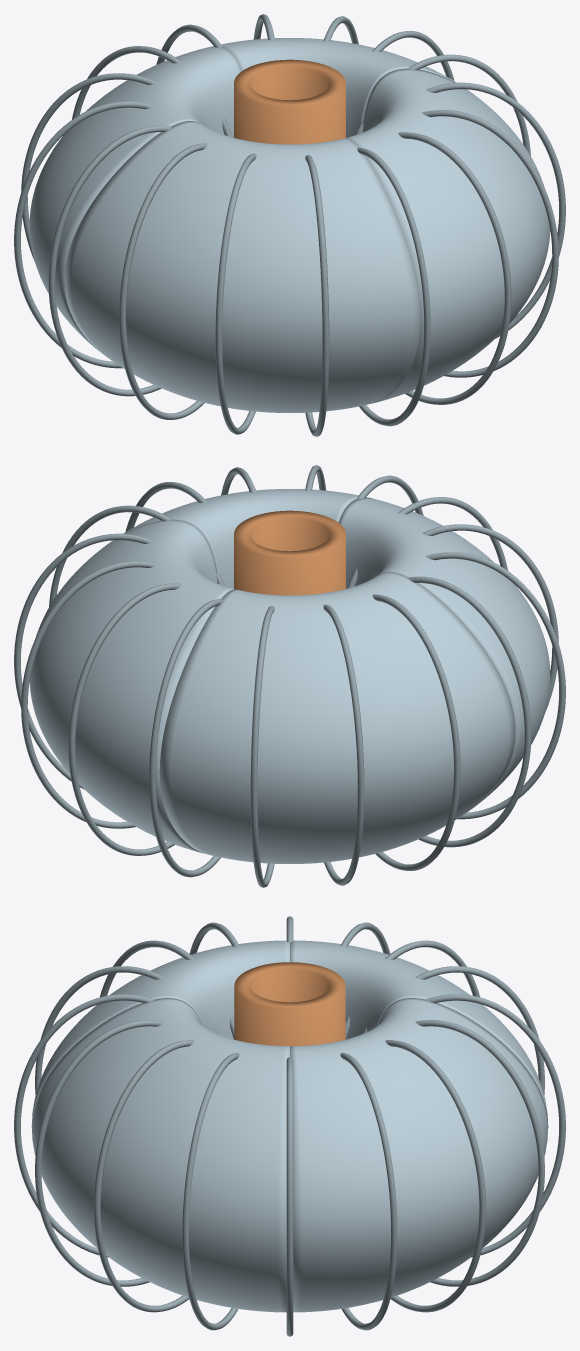
3 views of the same model, one above another, from view 1: azimuth 30°, elevation 25°; view 2: azimuth 150°, elevation 25°; view 3: azimuth 270°, elevation 25° (orthographic).
Visible parts, largest first — view 1: vessel_Q2, vessel_Q3, vessel_Q1, solenoid, vessel_Q0, coils_08, coils_14, coils_13, coils_07, coils_09, coils_12, coils_15 (+7 smaller); view 2: vessel_Q1, vessel_Q0, vessel_Q2, solenoid, vessel_Q3, coils_08, coils_02, coils_03, coils_09, coils_07, coils_04, coils_01 (+7 smaller); view 3: vessel_Q0, vessel_Q3, solenoid, vessel_Q1, vessel_Q2, coils_03, coils_13, coils_02, coils_14, coils_04, coils_12, coils_01 (+6 smaller).
Part boxes in pixels (left/top/right/bottom): vessel_Q2: left=64, top=121, right=420, bottom=412; vessel_Q3: left=345, top=68, right=550, bottom=402; vessel_Q1: left=29, top=46, right=241, bottom=353; solenoid: left=234, top=59, right=345, bottom=144; vessel_Q0: left=212, top=38, right=455, bottom=137; coils_08: left=48, top=125, right=171, bottom=396; coils_14: left=422, top=110, right=558, bottom=377; coils_13: left=398, top=132, right=511, bottom=404; coils_07: left=14, top=101, right=153, bottom=368; coils_09: left=119, top=143, right=207, bottom=419; coils_12: left=357, top=147, right=430, bottom=426; coils_15: left=426, top=82, right=565, bottom=338; vessel_Q1: left=159, top=572, right=515, bottom=863; vessel_Q0: left=29, top=519, right=234, bottom=853; vessel_Q2: left=338, top=497, right=550, bottom=804; solenoid: left=234, top=510, right=345, bottom=595; vessel_Q3: left=124, top=489, right=367, bottom=588; coils_08: left=408, top=576, right=531, bottom=847; coils_02: left=21, top=561, right=157, bottom=828; coils_03: left=68, top=583, right=181, bottom=855; coils_09: left=426, top=552, right=565, bottom=819; coils_07: left=372, top=594, right=460, bottom=870; coils_04: left=149, top=598, right=222, bottom=877; coils_01: left=14, top=533, right=153, bottom=789; vessel_Q0: left=290, top=998, right=548, bottom=1312; vessel_Q3: left=31, top=998, right=289, bottom=1312; solenoid: left=234, top=962, right=345, bottom=1046; vessel_Q1: left=290, top=940, right=547, bottom=1115; vessel_Q2: left=32, top=940, right=289, bottom=1115; coils_03: left=415, top=1020, right=544, bottom=1286; coils_13: left=35, top=1020, right=164, bottom=1286; coils_02: left=385, top=1040, right=485, bottom=1312; coils_14: left=94, top=1040, right=194, bottom=1312; coils_04: left=426, top=994, right=565, bottom=1257; coils_12: left=14, top=994, right=153, bottom=1257; coils_01: left=340, top=1052, right=397, bottom=1330.
Size of the model in its own units: 28.94 by 16.29 by 28.94.
